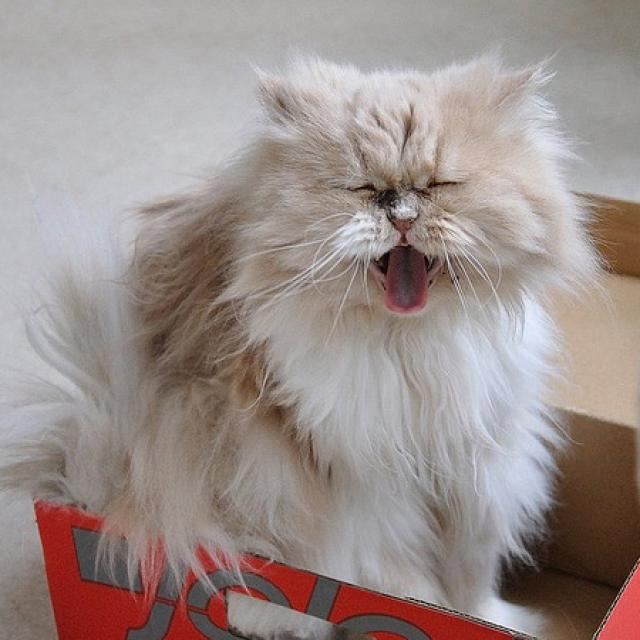Persian: (7, 41, 606, 640)
